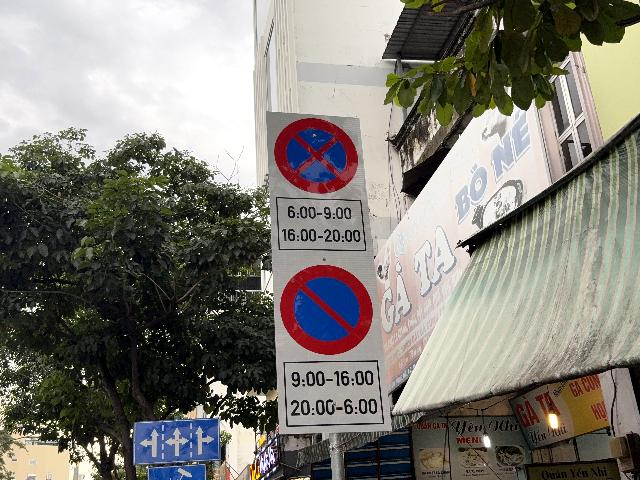cam-do-xe: (279, 264, 374, 355)
cam-dung-va-do-xe: (274, 118, 358, 194)
